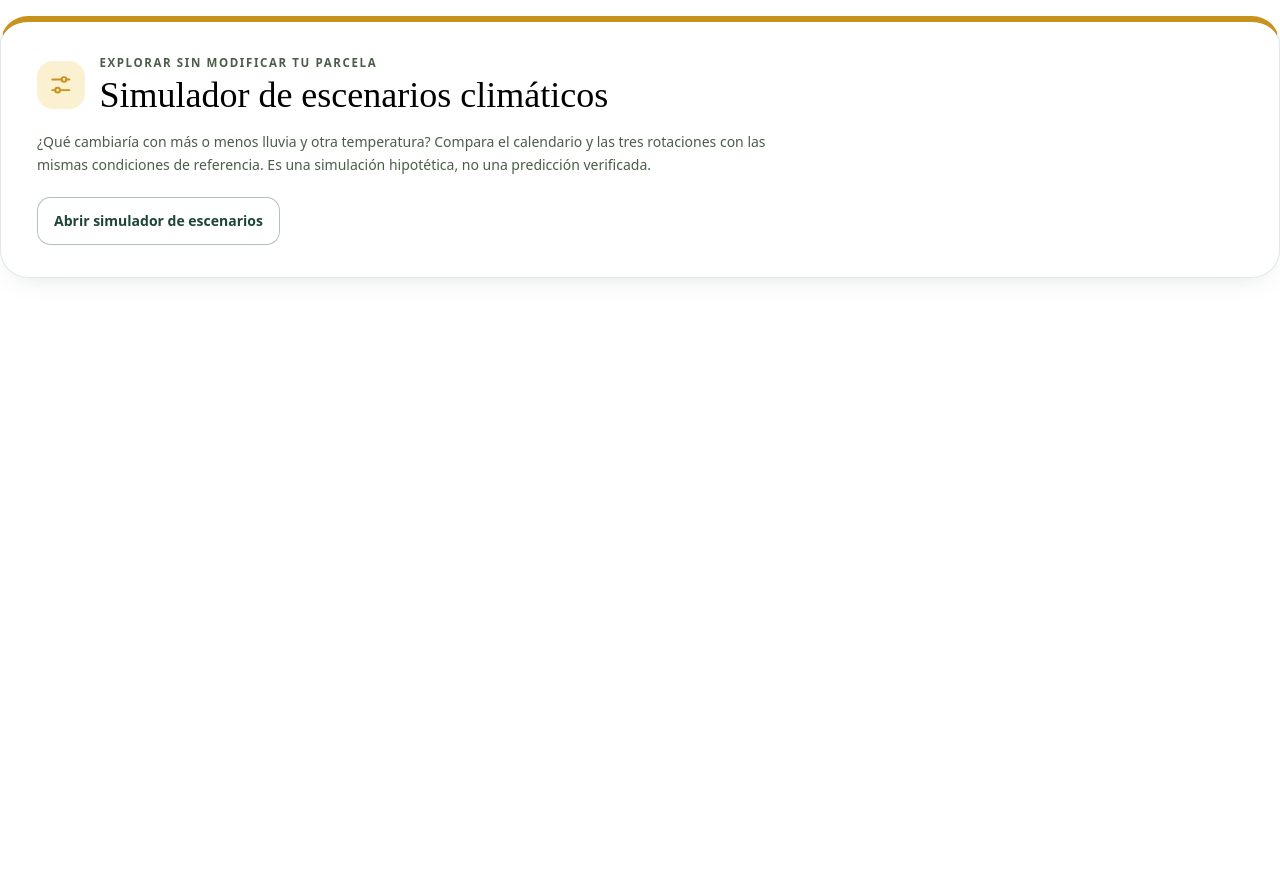
Test case: Simulador visual, controles, peticiones y sesiones › explica las barras original y simulada sin presentarlas como un pronóstico
Click the button "Abrir simulador de escenarios" at point(158, 221), box [37, 197, 280, 245]
(page scrolled)
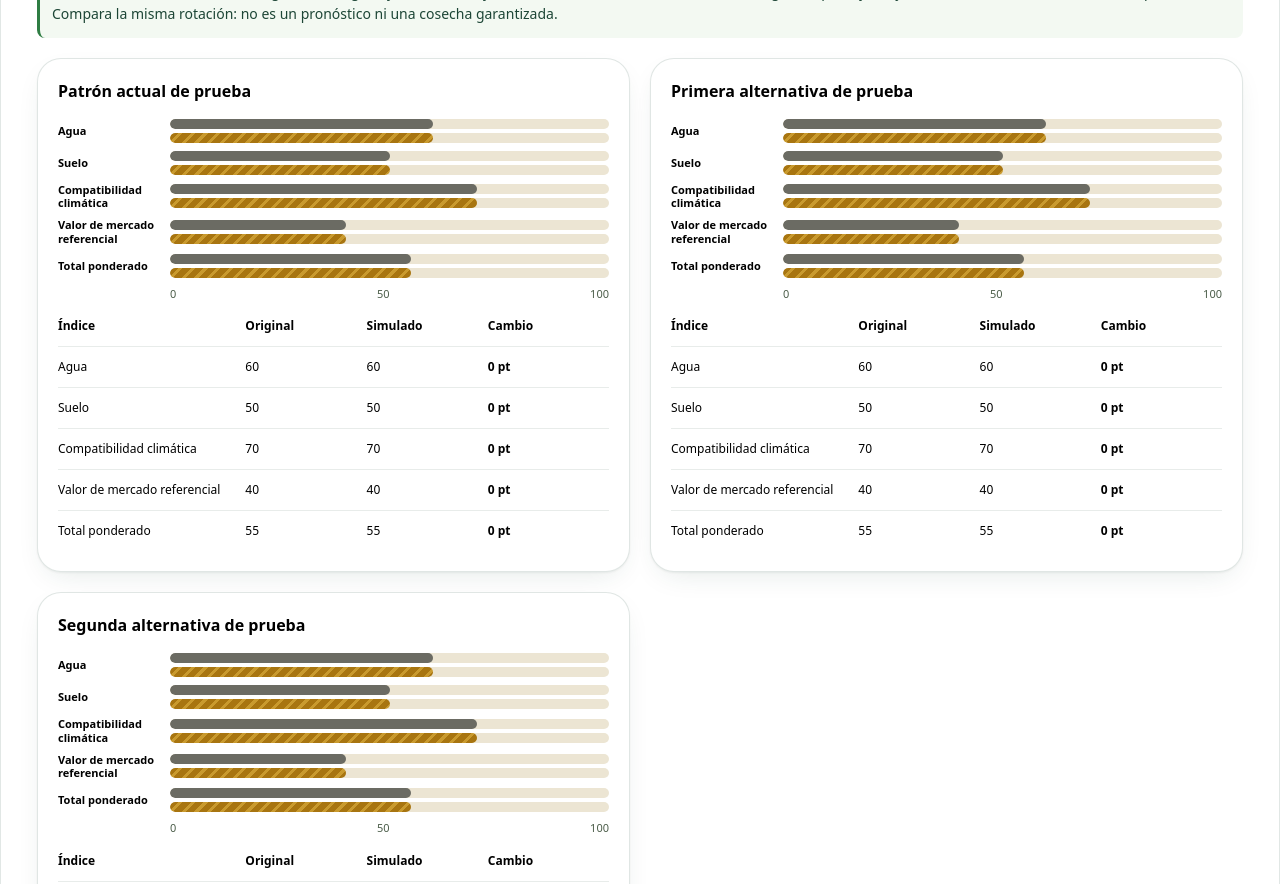
Expected: the table named "Indicadores comparados de Patrón actual" is shown, [58, 318, 609, 551]
